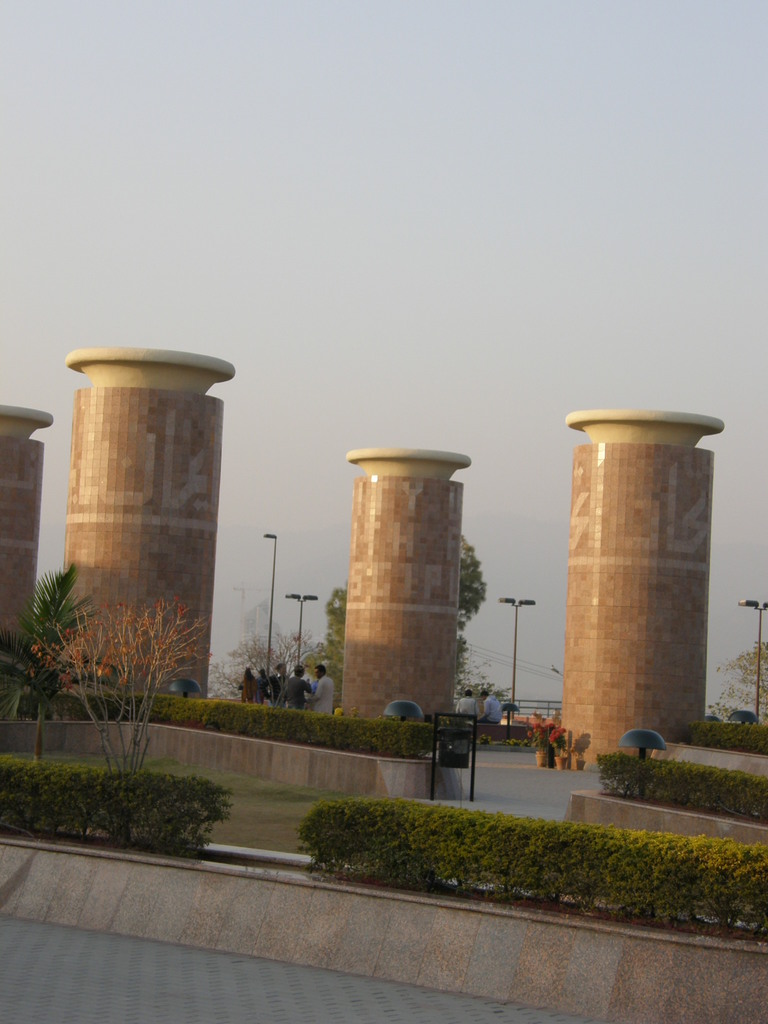Tree: (310, 530, 484, 706), (204, 627, 312, 702), (712, 633, 768, 731), (442, 668, 514, 711)
